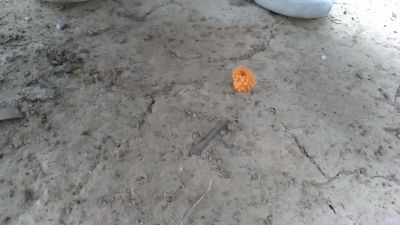eggs: (232, 63, 261, 102)
